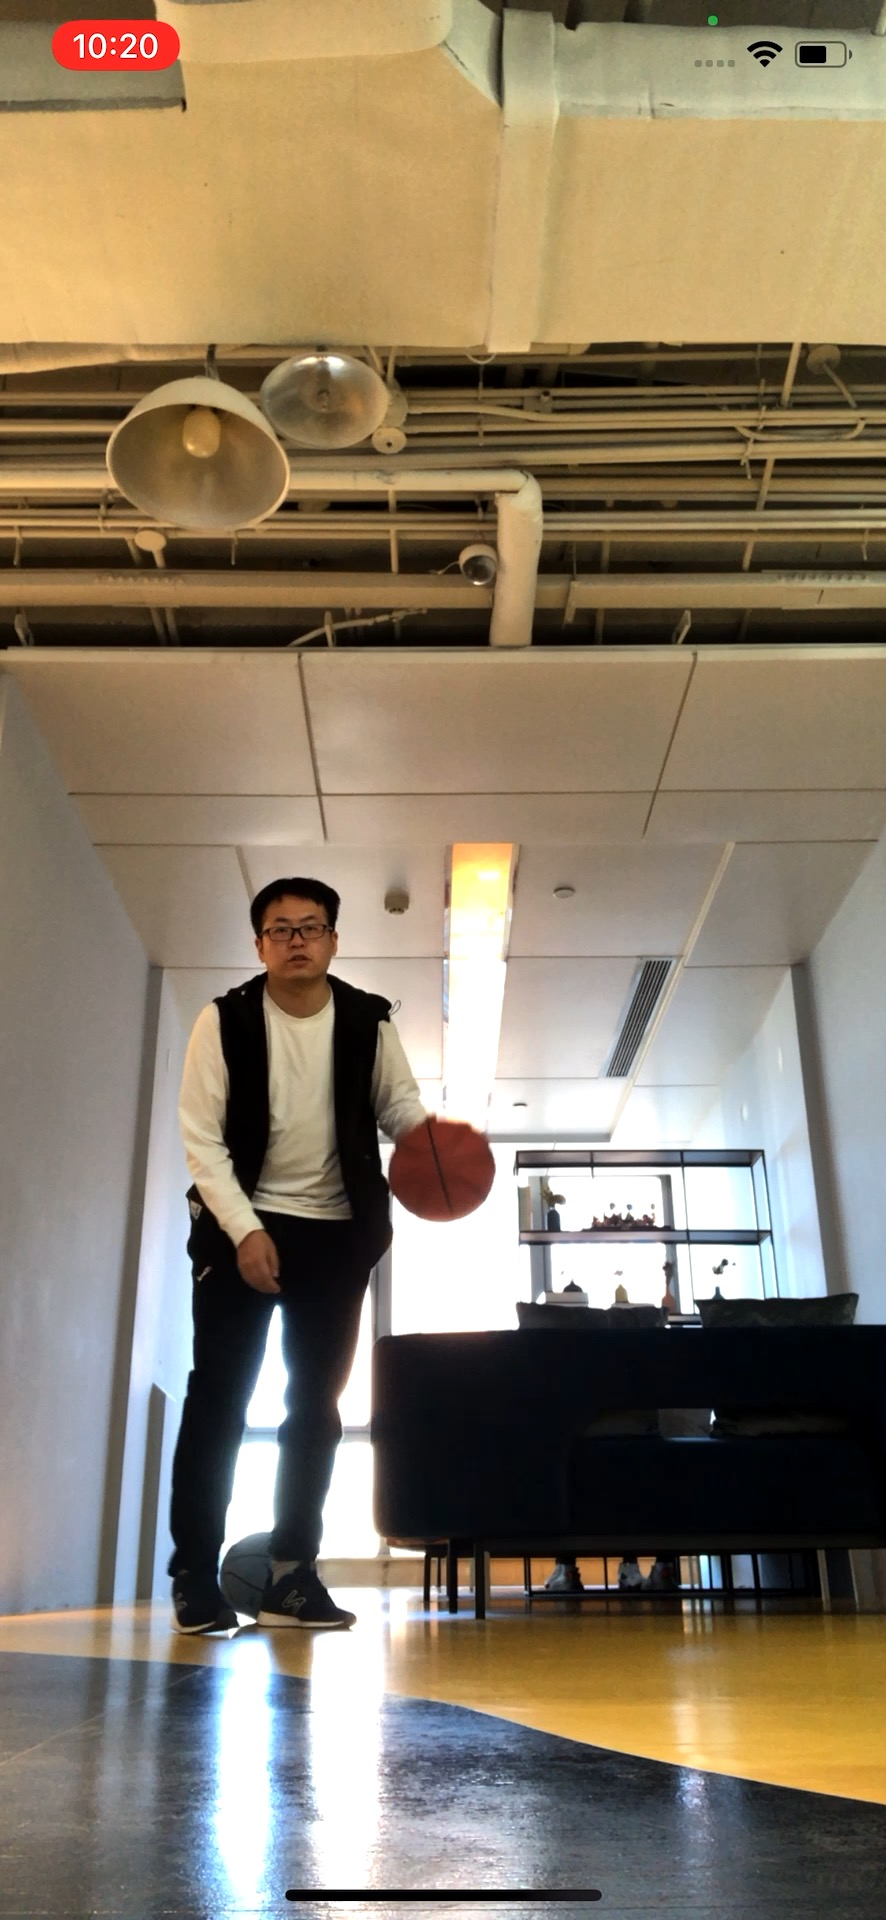ball: (390, 1119, 498, 1224)
